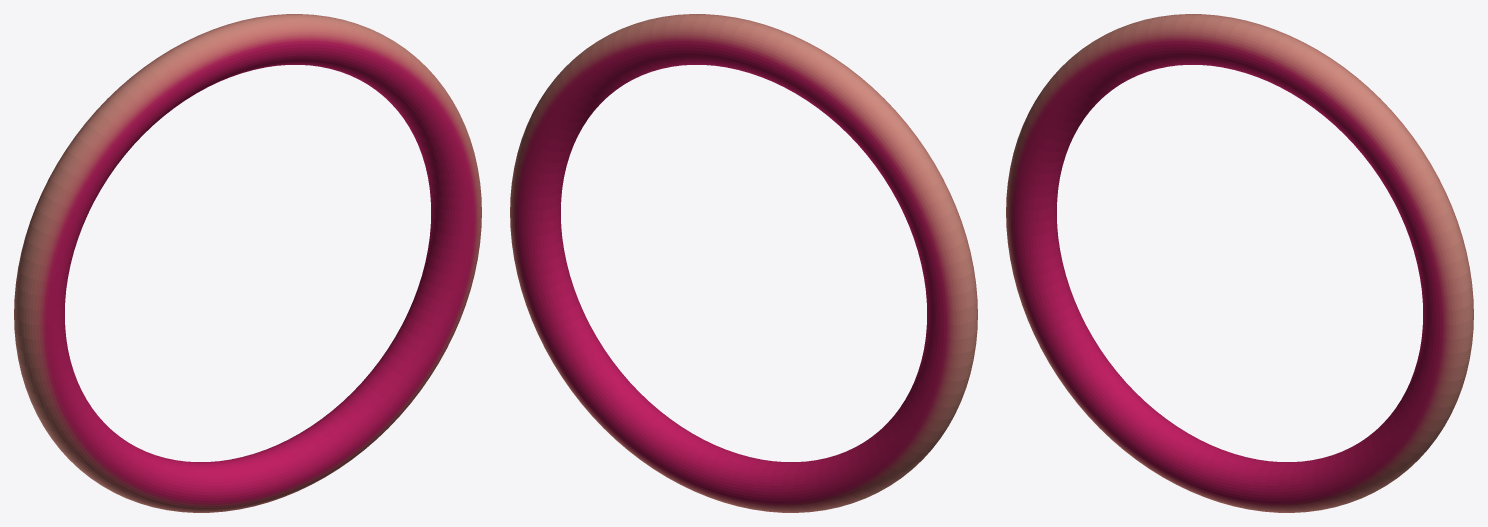
3 renders of one model, left to right at view 1: azimuth 30°, elevation 25°; view 2: azimuth 150°, elevation 25°; view 3: azimuth 330°, elevation 25°, orthographic.
Visible parts, largest first — view 1: world; view 2: world; view 3: world.
Boxes of the visible parts, left/top/right/bottom form: world: left=14, top=14, right=481, bottom=512; world: left=510, top=14, right=977, bottom=512; world: left=1006, top=14, right=1473, bottom=512.
Size of the model in its own units: 26.53 by 26.53 by 2.53.
